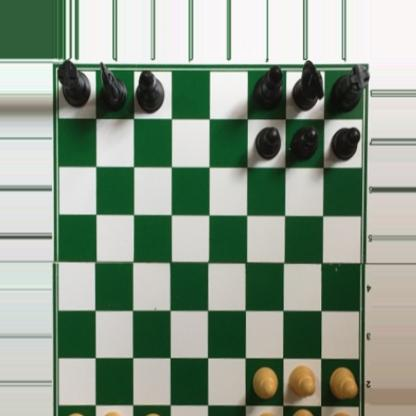black-bishop: (253, 66, 284, 112), (135, 71, 165, 113)
black-knight: (293, 59, 326, 113), (95, 61, 128, 112)
black-pawn: (290, 122, 319, 162), (329, 124, 361, 160), (254, 123, 282, 160)
black-rook: (330, 60, 370, 111), (55, 59, 91, 107)
white-bishop: (252, 410, 284, 416), (139, 410, 169, 416)
white-knight: (288, 407, 321, 416), (95, 412, 126, 416)
white-pawn: (329, 366, 358, 398), (288, 364, 315, 397), (251, 365, 277, 399)
white-rook: (326, 410, 363, 416), (52, 411, 91, 416)
